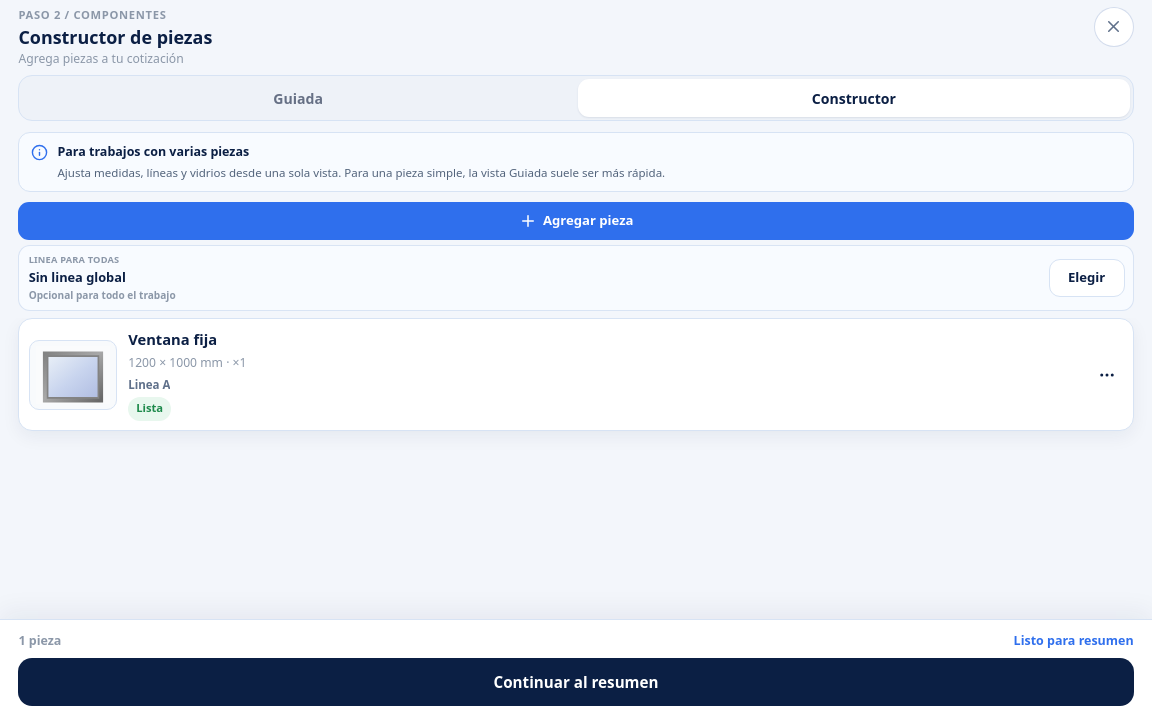
Test case: PasoDosCuadernoMovil › abre composicion desde el menu de tres puntos
The image size is (1152, 720).
Click the button named "acciones de": (1107, 374) [1089, 356, 1125, 392]
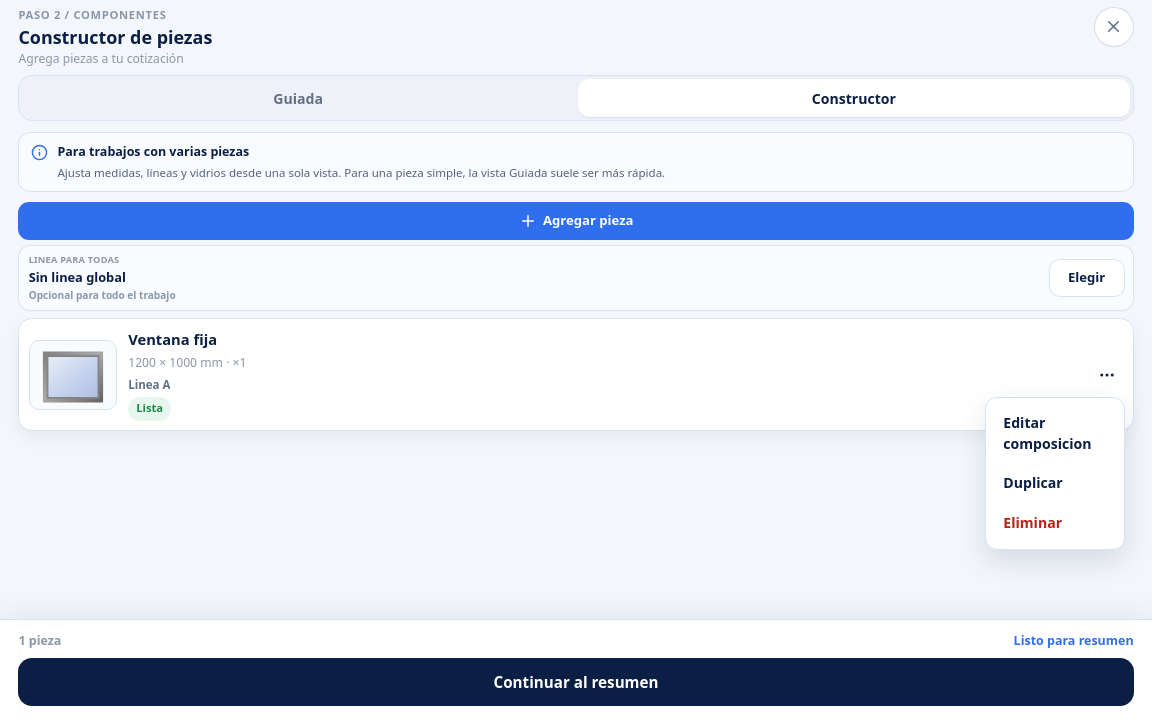
Click the menu item "Editar composicion": (1055, 433) [991, 403, 1118, 463]
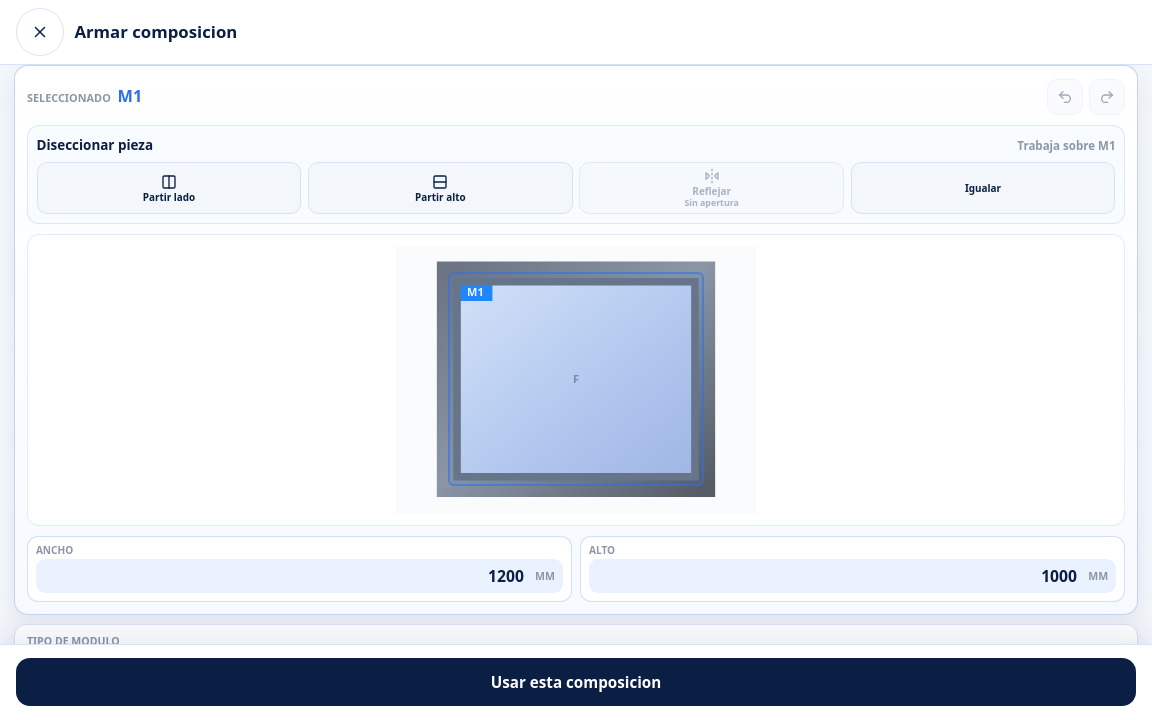
Check: the dialog "Armar composici" is shown
